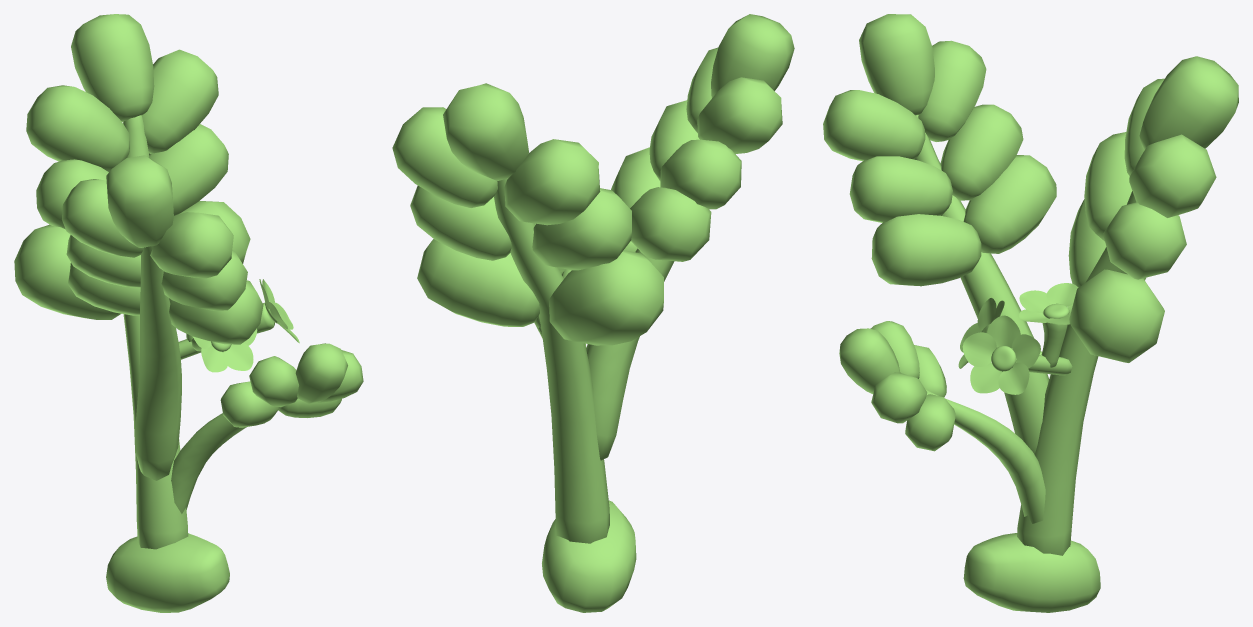
Rendered from potato stage 3.glb.
3 views of the same model, side by side, from view 1: azimuth 30°, elevation 25°; view 2: azimuth 150°, elevation 25°; view 3: azimuth 270°, elevation 25° (orthographic). The views are drawn at different scales.
Visible parts, largest first — view 1: potato stage 3; view 2: potato stage 3; view 3: potato stage 3.
Boxes of the visible parts, x1,y1,x2,y2 form: potato stage 3: (14, 14, 363, 612); potato stage 3: (392, 14, 794, 612); potato stage 3: (823, 14, 1238, 612).
Size of the model in its own units: 6.6 by 12.41 by 8.34.
Materials: 1 (1 with a texture image).
